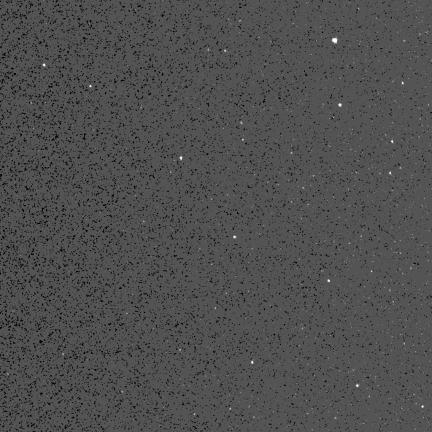blob: (332, 38, 337, 43), (339, 103, 343, 108), (356, 384, 360, 388), (180, 156, 183, 161), (233, 236, 237, 239), (389, 172, 392, 176), (43, 64, 46, 68), (251, 361, 254, 365), (328, 279, 331, 283), (402, 82, 405, 85), (90, 85, 92, 88), (422, 405, 424, 408)
